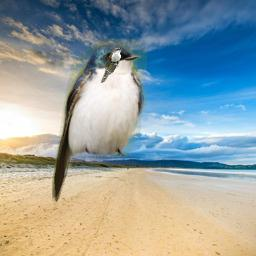Cuckoo: (100, 47, 122, 83)
Swallow: (52, 37, 147, 203)
